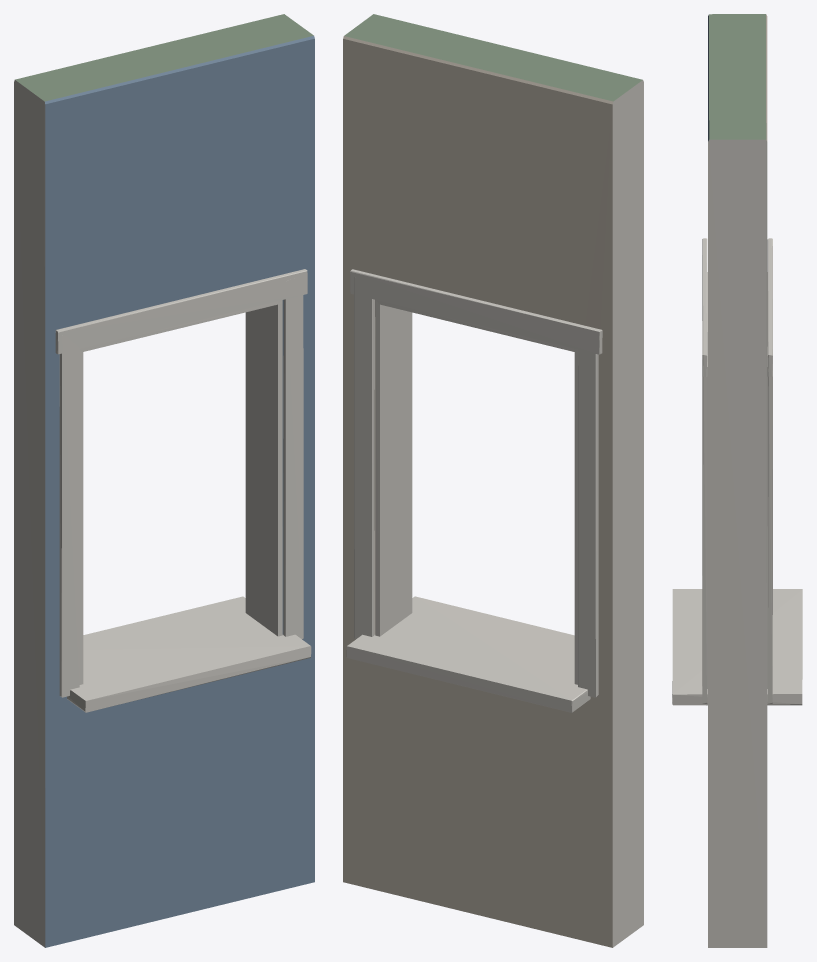
Rendered from SM_Kit_Wall_PassThrough_LOD2.glb.
3 views of the same model, side by side, from view 1: azimuth 30°, elevation 25°; view 2: azimuth 150°, elevation 25°; view 3: azimuth 270°, elevation 25° (orthographic). The views are drawn at different scales.
Visible parts, largest first — view 1: SM_Kit_Wall_PassThrough_LOD2; view 2: SM_Kit_Wall_PassThrough_LOD2; view 3: SM_Kit_Wall_PassThrough_LOD2.
Boxes of the visible parts, x1,y1,x2,y2 form: SM_Kit_Wall_PassThrough_LOD2: [14, 14, 314, 947]; SM_Kit_Wall_PassThrough_LOD2: [343, 14, 643, 947]; SM_Kit_Wall_PassThrough_LOD2: [672, 14, 802, 947].
Size of the model in its own units: 1 by 3 by 0.4376.
